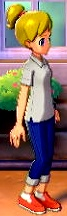woman_no_egg: (5, 4, 63, 216)
